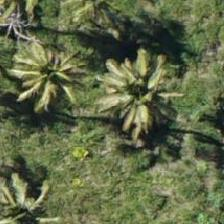coconut_tree: (99, 35, 189, 125), (0, 25, 78, 115), (0, 148, 58, 223), (39, 0, 129, 48)
